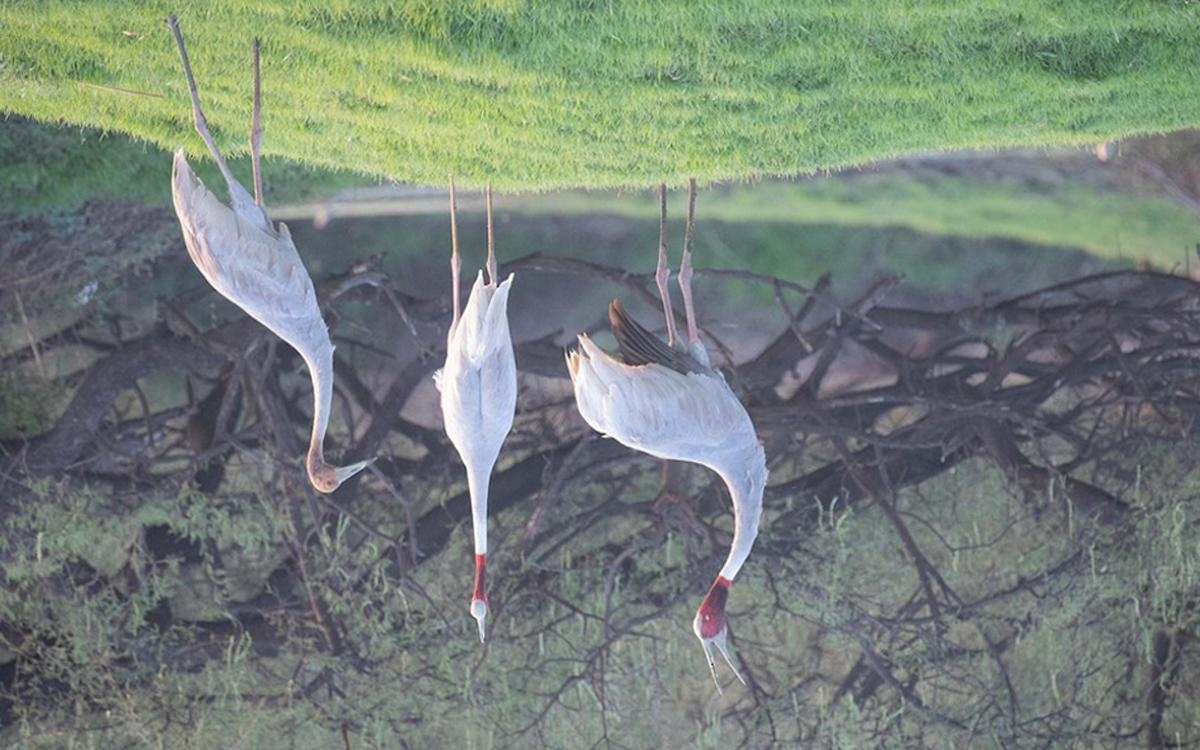crane: (558, 168, 771, 699), (153, 20, 384, 504), (410, 170, 526, 650)
